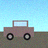vehicle: (3, 21, 34, 40)
